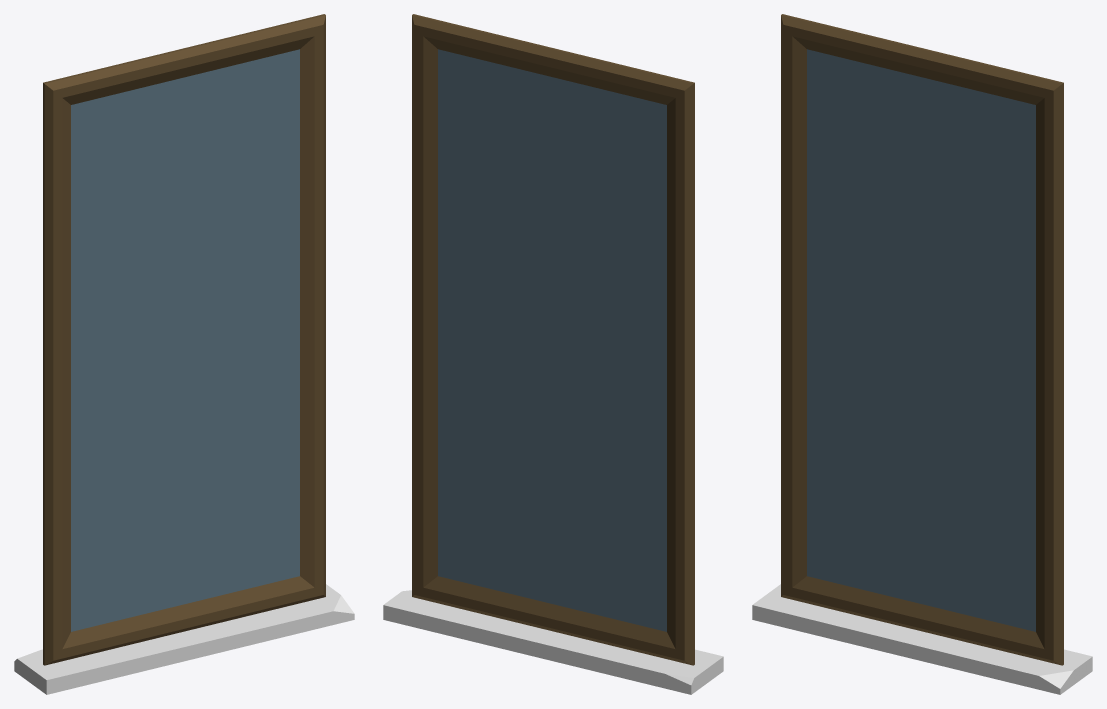
Rendered from Mirror01.fbx.
3 views of the same model, side by side, from view 1: azimuth 30°, elevation 25°; view 2: azimuth 150°, elevation 25°; view 3: azimuth 330°, elevation 25° (orthographic).
Parts seen in each view (by area): view 1: MirrorSide2, Mirror; view 2: MirrorSide, Mirror; view 3: MirrorSide2, Mirror.
Part boxes in pixels (<box>): MirrorSide2: <box>71,49,299,631</box>; Mirror: <box>14,14,354,694</box>; MirrorSide: <box>438,49,666,631</box>; Mirror: <box>383,14,723,694</box>; MirrorSide2: <box>807,49,1035,631</box>; Mirror: <box>752,14,1092,694</box>.
Bounding box in the file's own units: 2.19 × 4.05 × 0.4.
